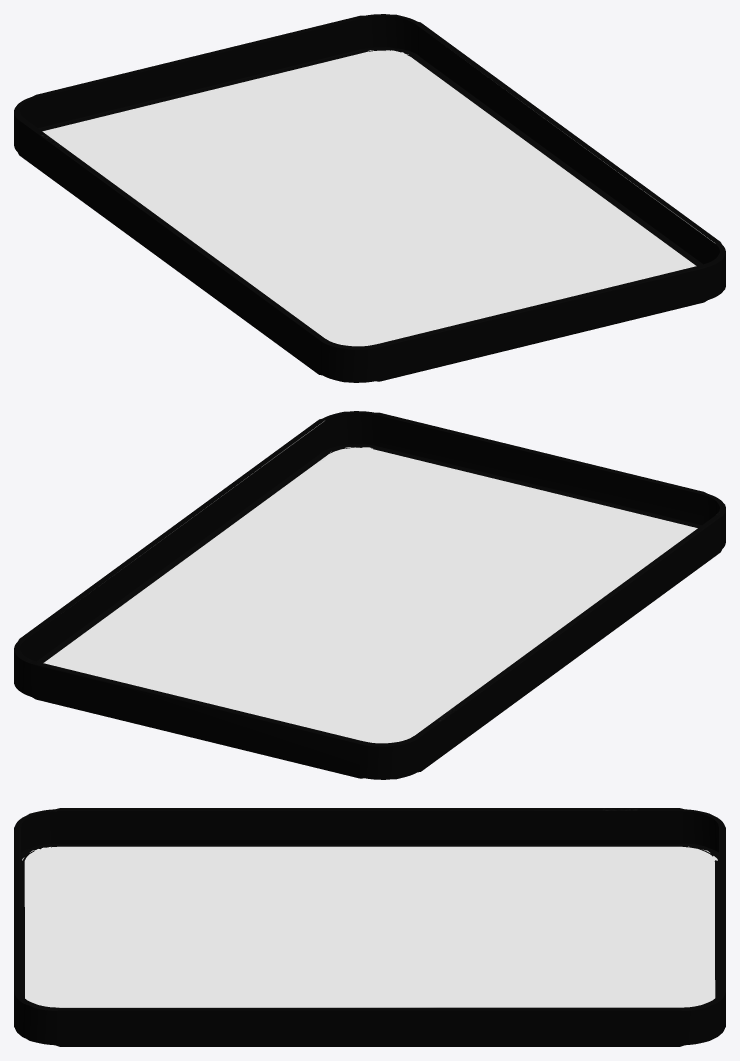
Rendered from LightTop0001.obj.
3 views of the same model, one above another, from view 1: azimuth 30°, elevation 25°; view 2: azimuth 150°, elevation 25°; view 3: azimuth 270°, elevation 25° (orthographic). The views are drawn at different scales.
Size of the model in its own units: 1.03 by 0.086 by 1.53.
Materials: 1 (1 with a texture image).
